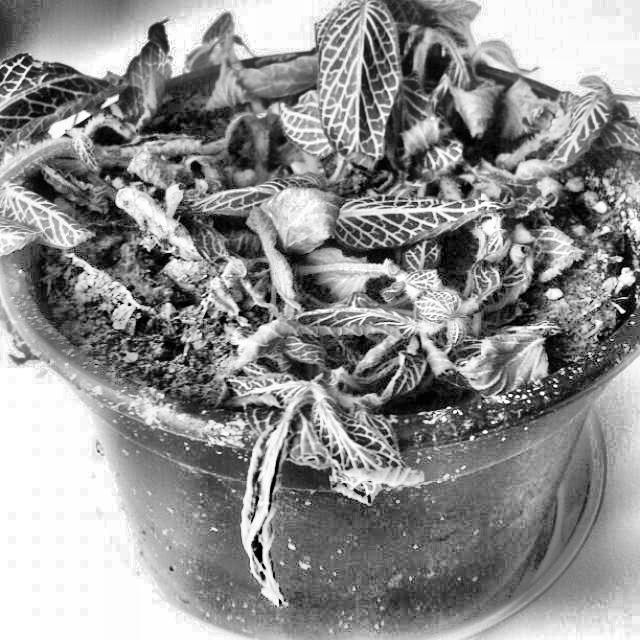plants: (27, 108, 639, 602)
